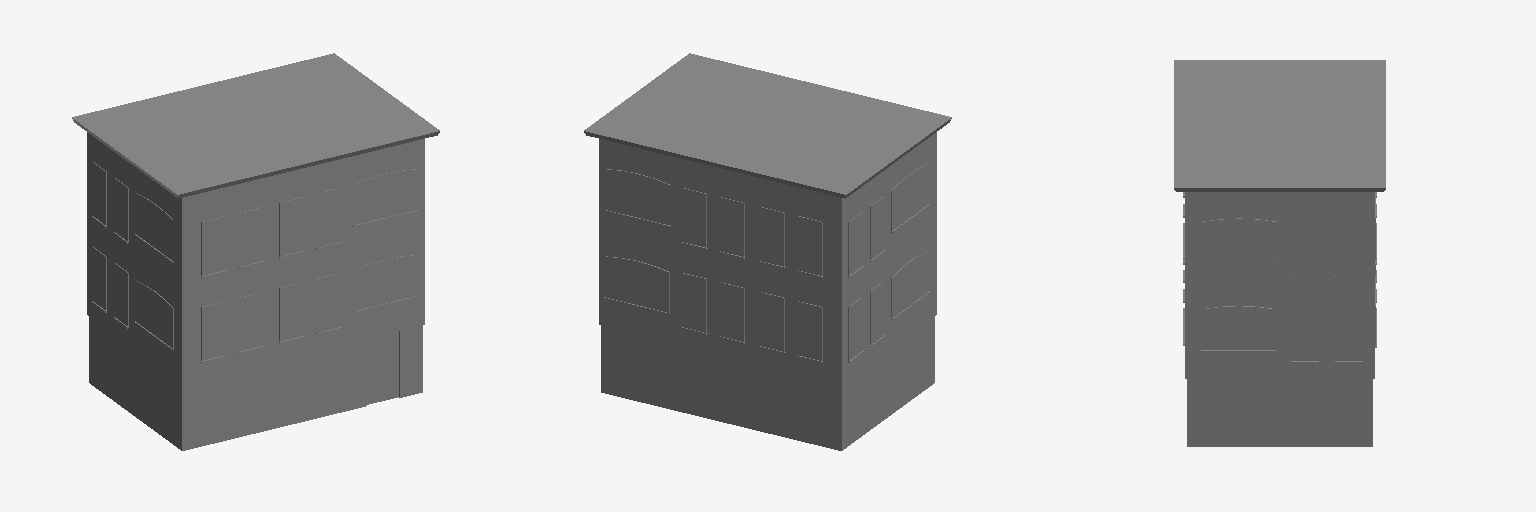
Rendered from Edificio2.obj.
3 views of the same model, side by side, from view 1: azimuth 30°, elevation 25°; view 2: azimuth 150°, elevation 25°; view 3: azimuth 270°, elevation 25° (orthographic).
Parts seen in each view (by area): view 1: building_mincio_2; view 2: building_mincio_2; view 3: building_mincio_2.
Part boxes in pixels (bbox=[...]): building_mincio_2: bbox=[72, 53, 439, 450]; building_mincio_2: bbox=[584, 53, 951, 450]; building_mincio_2: bbox=[1174, 60, 1385, 446].
Size of the model in its own units: 238 by 228 by 166.